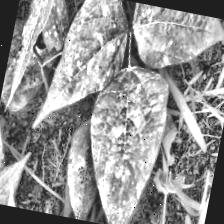Bean Rust: (73, 60, 175, 224), (36, 0, 137, 140), (122, 2, 224, 83), (8, 0, 78, 116)
